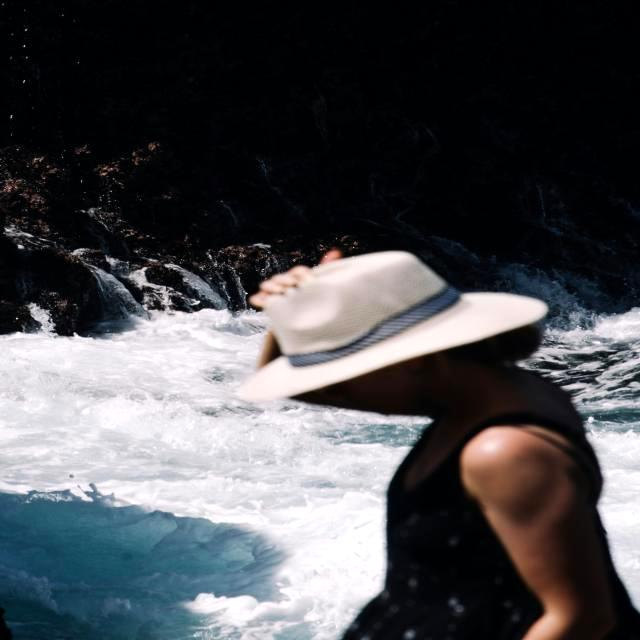no_hard_hat: (243, 251, 548, 402)
person: (227, 243, 640, 639)
